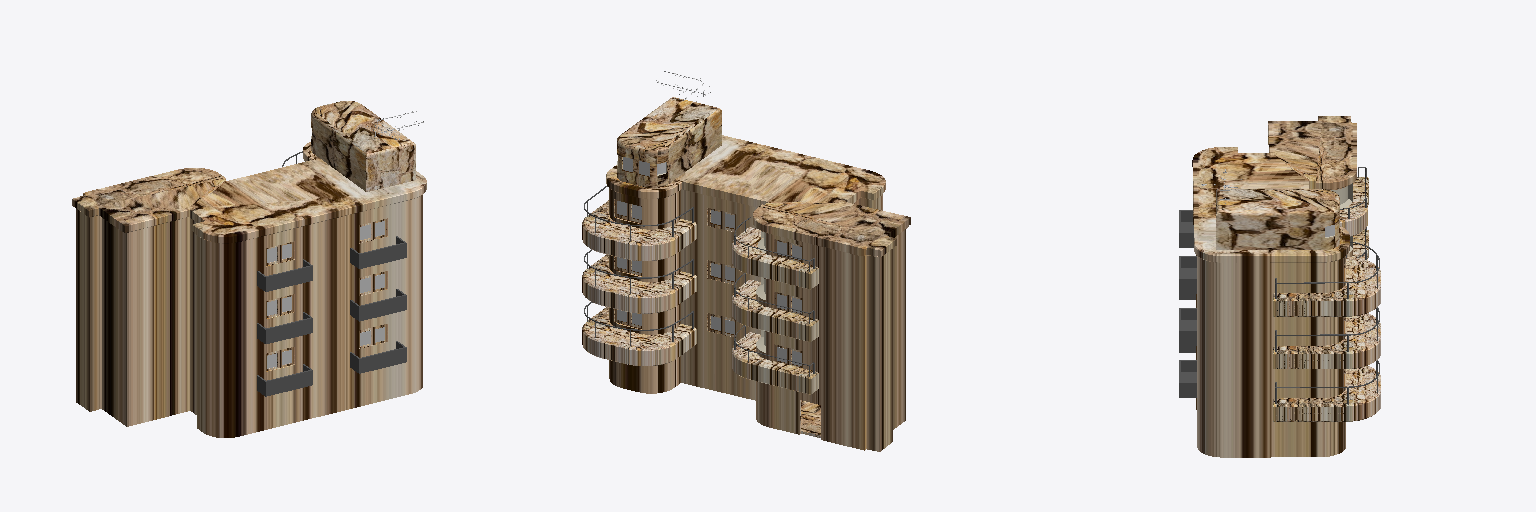
3 views of the same model, side by side, from view 1: azimuth 30°, elevation 25°; view 2: azimuth 150°, elevation 25°; view 3: azimuth 270°, elevation 25° (orthographic).
Parts seen in each view (by area): view 1: BauhausTop, RoofCube, BalconyBoxR, BlaconyBoxLeft; view 2: BauhausTop, BalconyFat, BlaconyThinIn, RoofCube, BezierCurve; view 3: BauhausTop, BalconyFat, RoofCube, BalconyBoxR, BlaconyThinIn, BlaconyBoxLeft.
Boxes of the visible parts, <box> form: BauhausTop: <box>72,142,426,437</box>; RoofCube: <box>311,101,415,191</box>; BalconyBoxR: <box>350,236,406,373</box>; BlaconyBoxLeft: <box>257,259,312,396</box>; BauhausTop: <box>606,135,910,451</box>; BalconyFat: <box>582,200,696,365</box>; BlaconyThinIn: <box>732,227,818,394</box>; RoofCube: <box>617,97,721,187</box>; BezierCurve: <box>584,186,693,330</box>; BauhausTop: <box>1192,116,1356,457</box>; BalconyFat: <box>1273,257,1380,421</box>; RoofCube: <box>1216,189,1339,249</box>; BalconyBoxR: <box>1179,256,1196,397</box>; BlaconyThinIn: <box>1340,177,1368,259</box>; BlaconyBoxLeft: <box>1179,210,1195,352</box>.
Size of the model in its own units: 3.05 by 2.65 by 1.8.
4 materials, 1 textured.